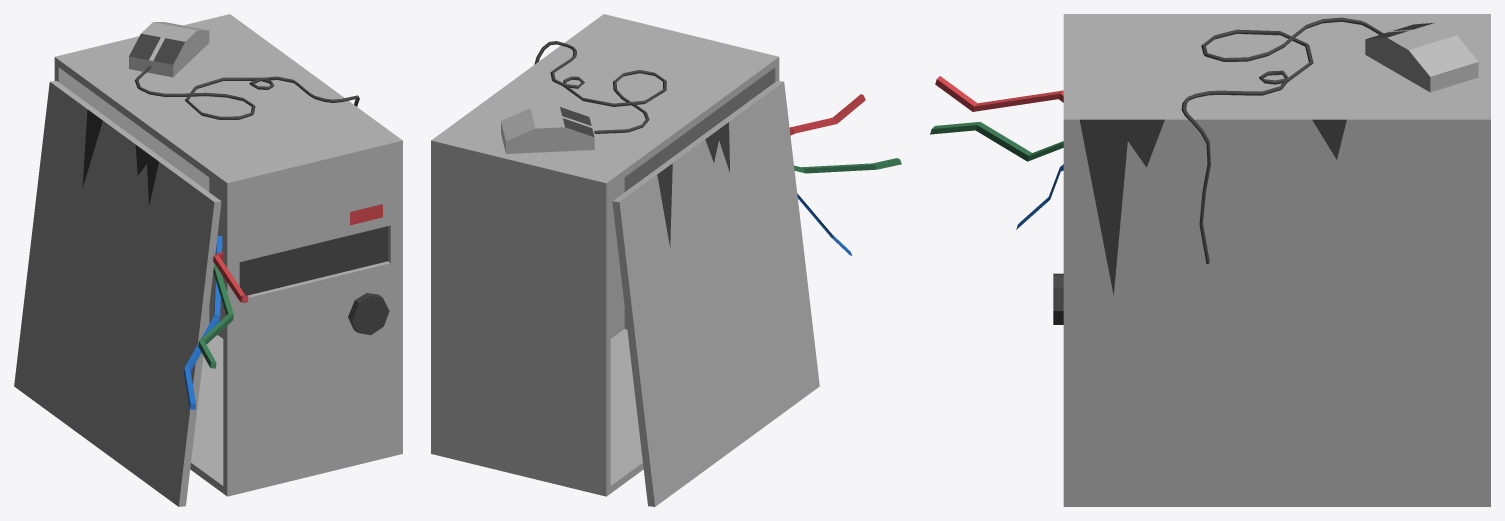
3 renders of one model, left to right at view 1: azimuth 30°, elevation 25°; view 2: azimuth 150°, elevation 25°; view 3: azimuth 270°, elevation 25°, orthographic. The views are drawn at different scales.
Visible parts, largest first — view 1: pc; view 2: pc; view 3: pc.
Part boxes in pixels (box(x1,y1,x2,y2)): pc: box(14, 14, 402, 506); pc: box(431, 14, 901, 506); pc: box(930, 14, 1490, 506).
Size of the model in its own units: 93.55 by 119 by 143.
